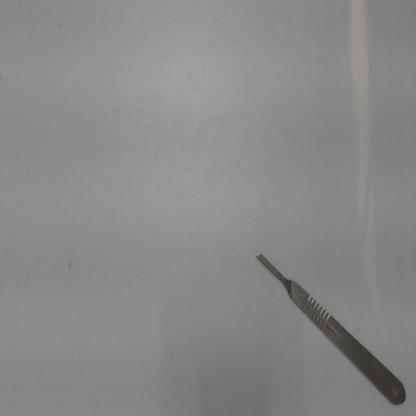No.4 BP Handle: (248, 231, 411, 410)
